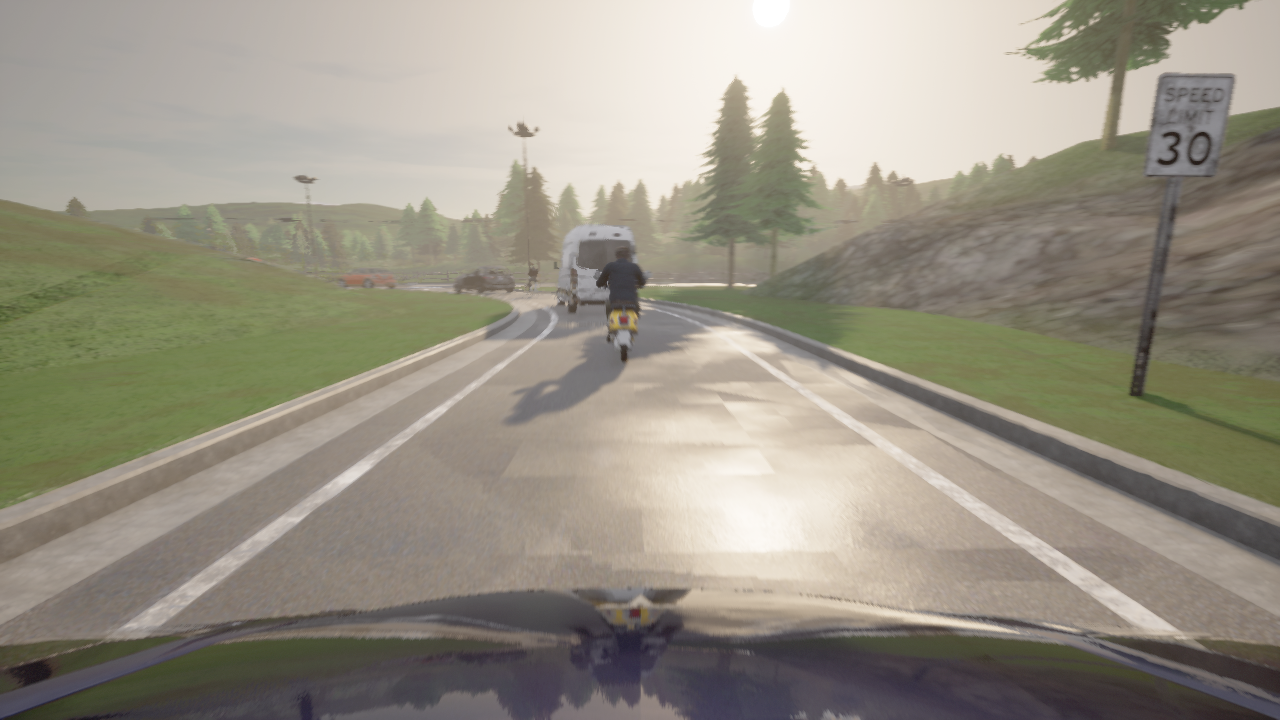cyclist: (0, 588, 1279, 719), (552, 225, 637, 313), (593, 271, 650, 362), (453, 266, 513, 293), (337, 267, 395, 288), (526, 281, 538, 297), (248, 258, 260, 261)
